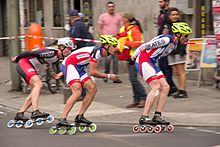roller_blade: (132, 115, 174, 132), (7, 111, 55, 125), (57, 118, 99, 134)
